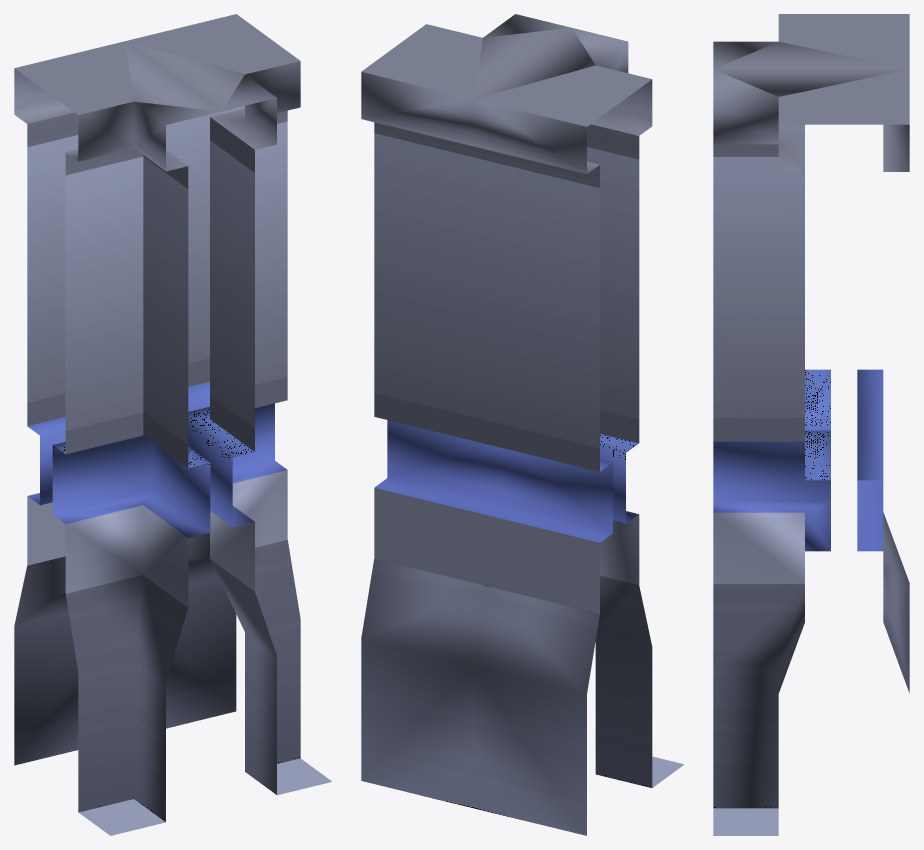
File: wall-T.glb
3 renders of one model, left to right at view 1: azimuth 30°, elevation 25°; view 2: azimuth 150°, elevation 25°; view 3: azimuth 270°, elevation 25°, orthographic. The views are drawn at different scales.
Parts seen in each view (by area): view 1: wall-T; view 2: wall-T; view 3: wall-T.
Boxes of the visible parts, box(x1,y1,x2,y2) form: wall-T: box(14, 14, 332, 835); wall-T: box(361, 14, 684, 835); wall-T: box(713, 14, 909, 835).
Bounding box in the file's own units: 1 × 3 × 0.7501.
Materials: 2 (2 with a texture image).
